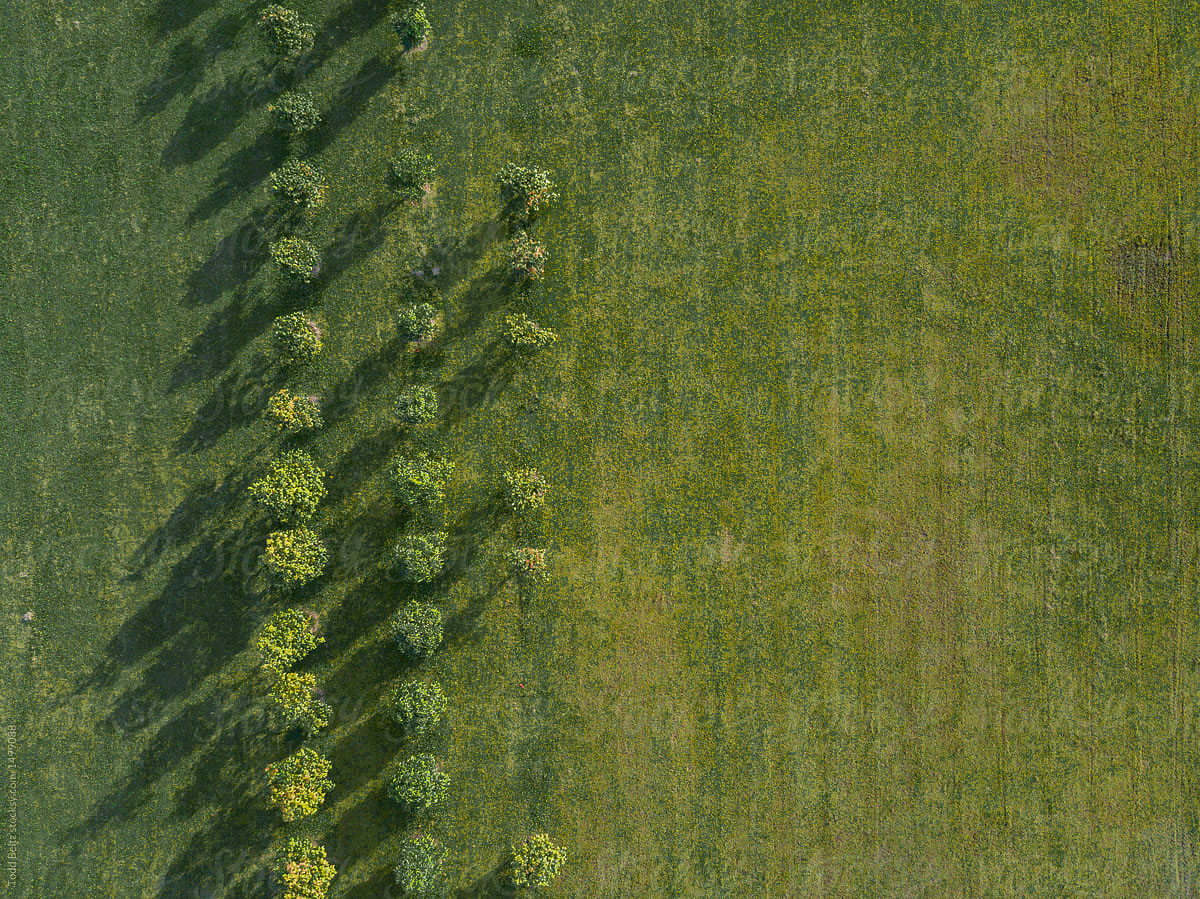TREE: (246, 447, 329, 524), (263, 748, 336, 821), (497, 831, 566, 899), (266, 670, 333, 740), (258, 528, 331, 588), (269, 835, 337, 899), (256, 608, 325, 670), (384, 452, 456, 508), (385, 752, 451, 810), (492, 161, 560, 216), (394, 832, 449, 899), (388, 679, 448, 737), (269, 157, 329, 214), (388, 599, 445, 658), (390, 530, 449, 583), (255, 3, 311, 57), (271, 310, 324, 365), (383, 147, 437, 199), (264, 389, 325, 433), (500, 229, 550, 282), (268, 236, 321, 283), (496, 465, 549, 511), (267, 91, 321, 136), (499, 313, 558, 353), (386, 1, 432, 50), (500, 546, 552, 584), (392, 383, 438, 424), (396, 301, 439, 341)
